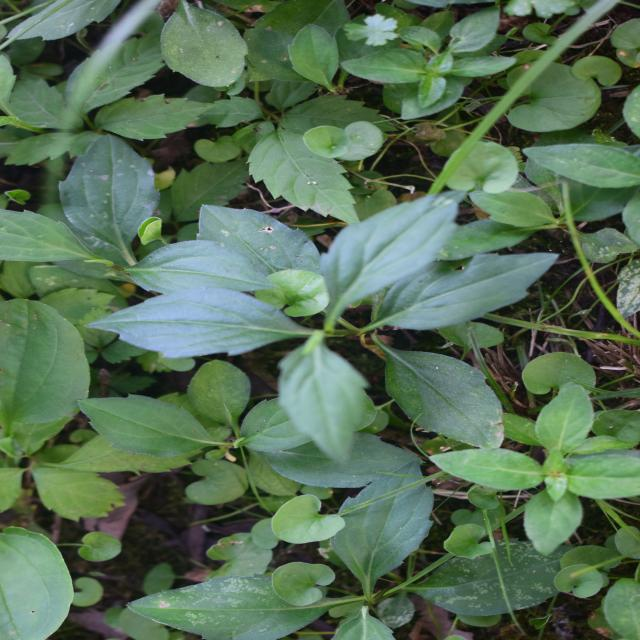Indian aster: (202, 123, 443, 531)
